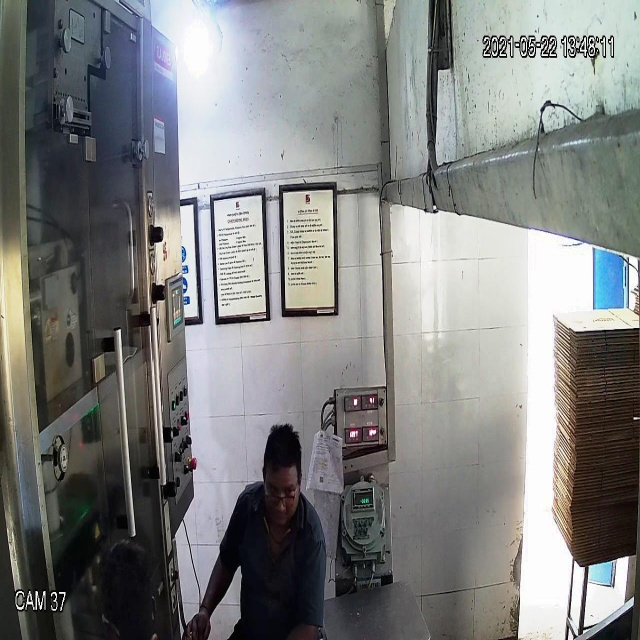Gafas: (261, 480, 300, 515)
